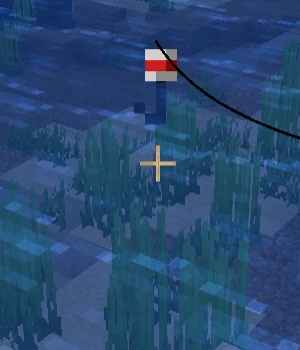up: (134, 36, 181, 133)
